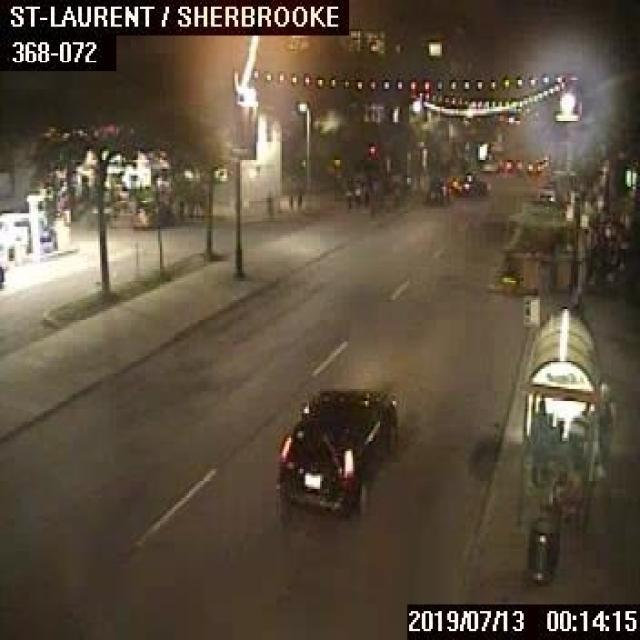Car: (274, 386, 400, 522)
